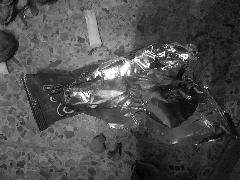general: (20, 41, 240, 145)
